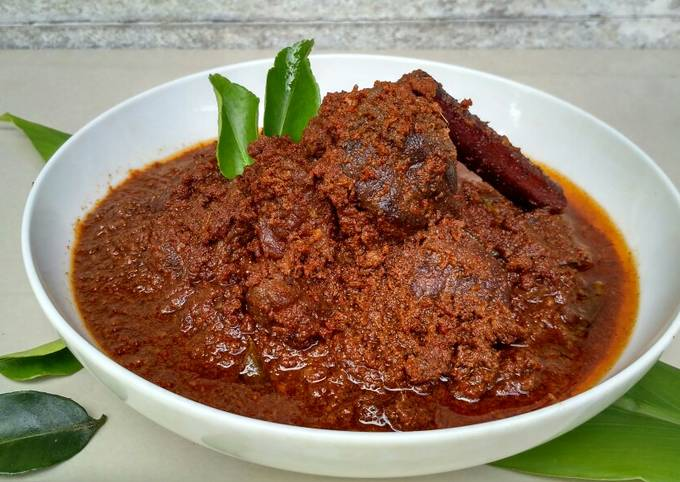rendang: (72, 72, 641, 433)
